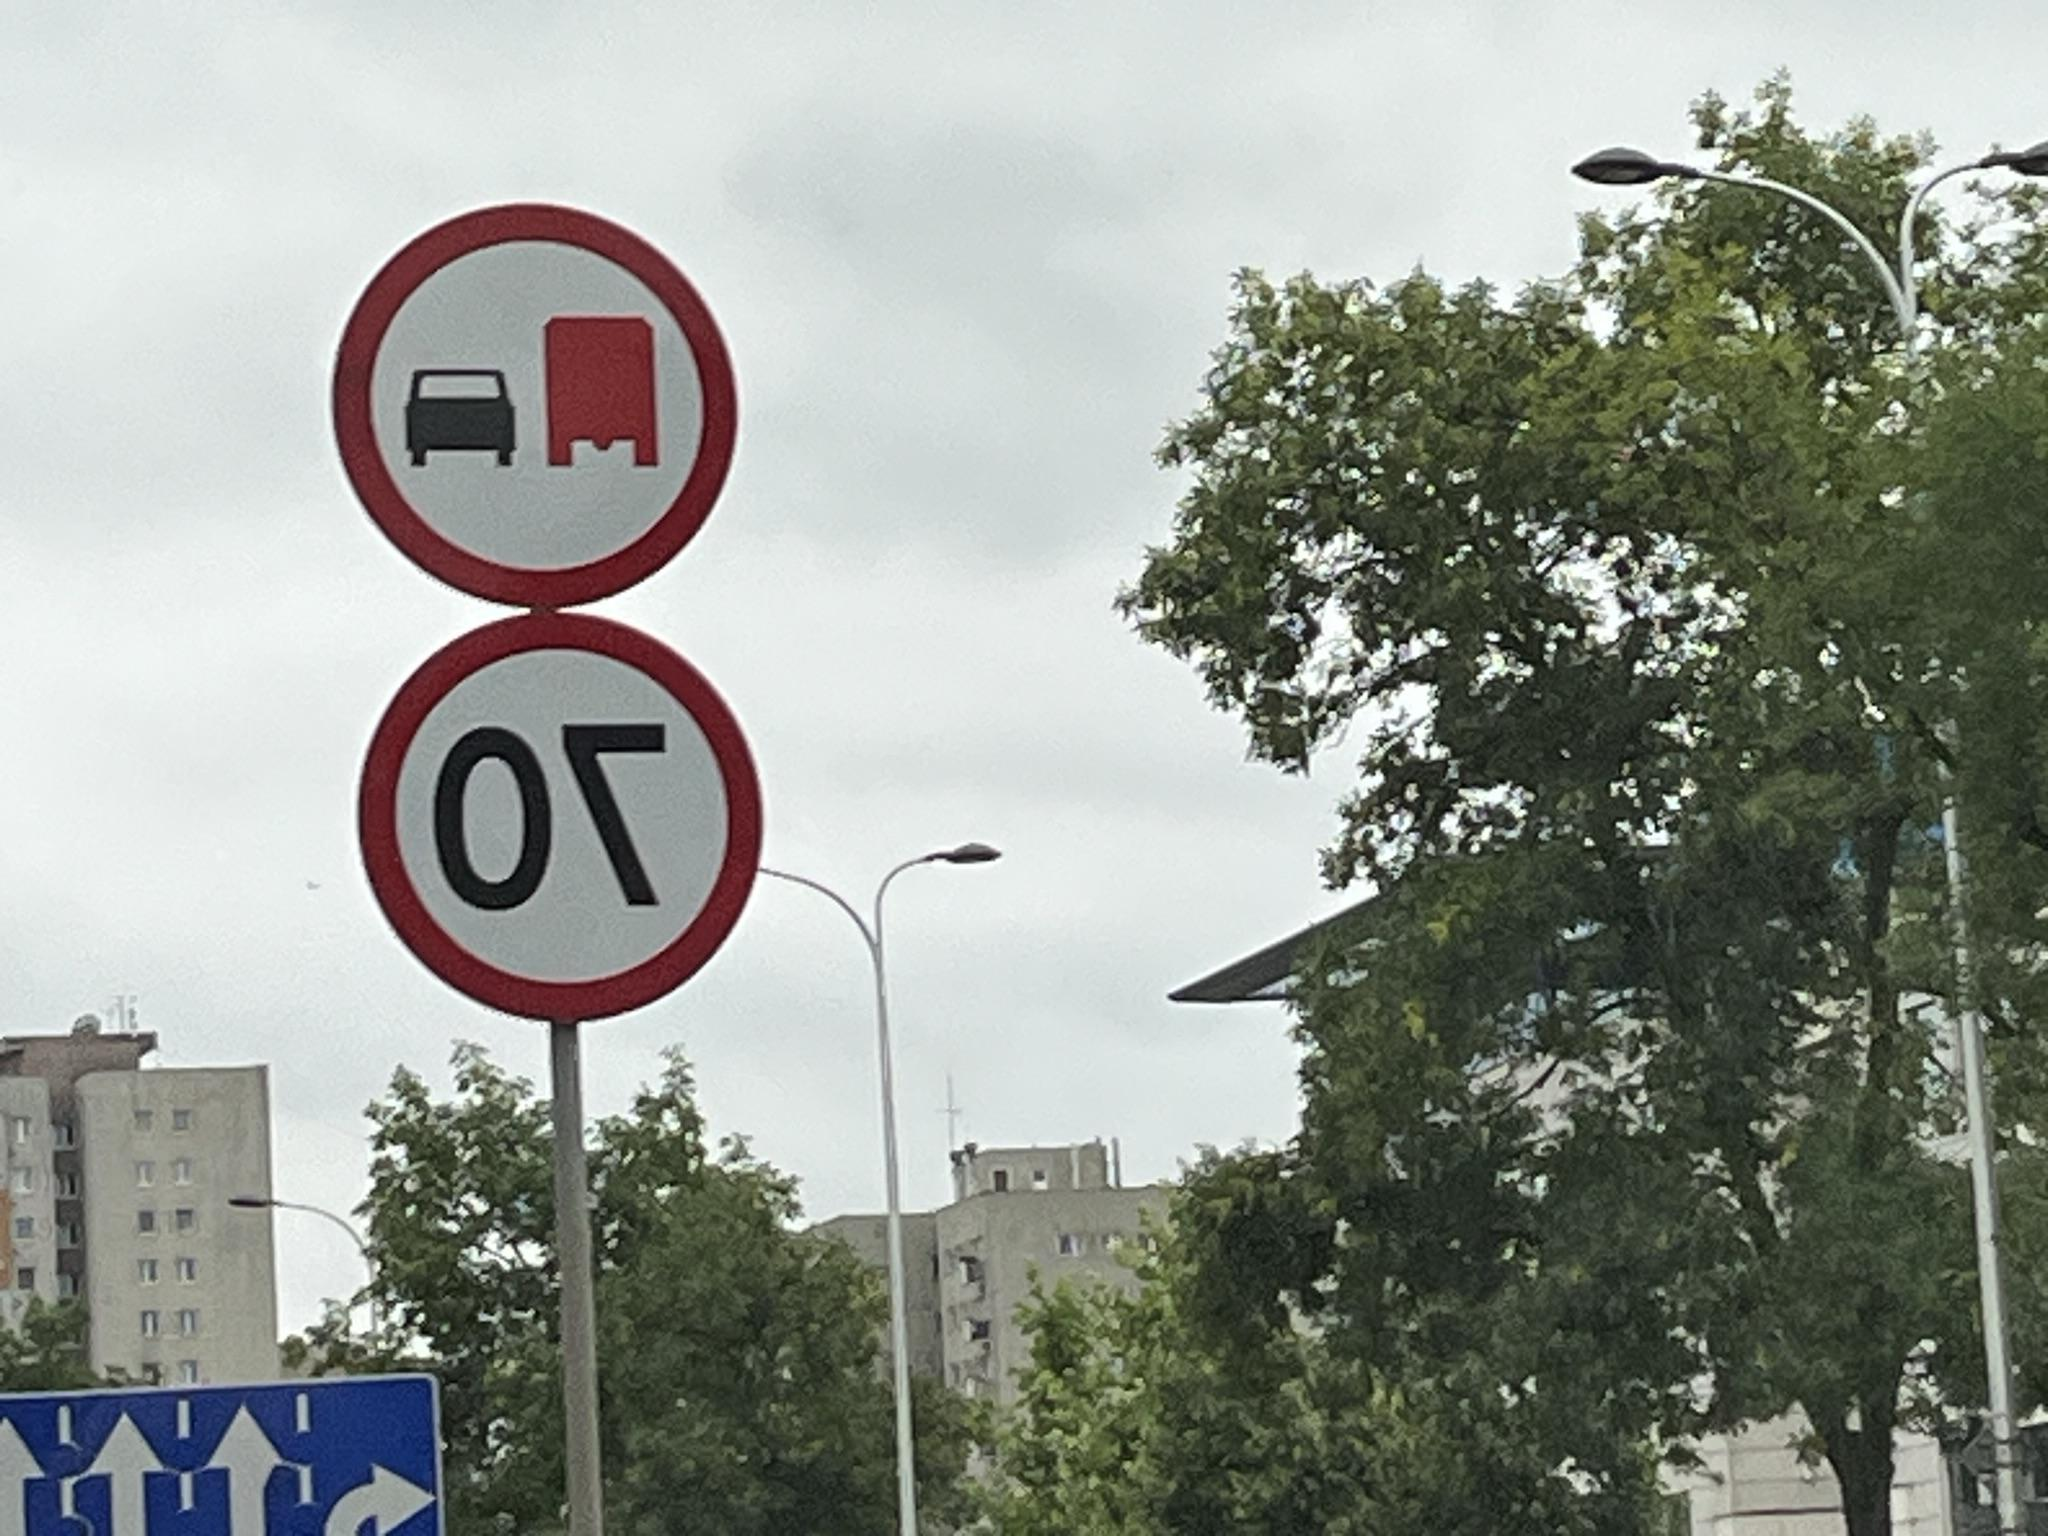other: (0, 1368, 448, 1536)
prohibitory: (352, 611, 766, 1025), (326, 200, 742, 611)
